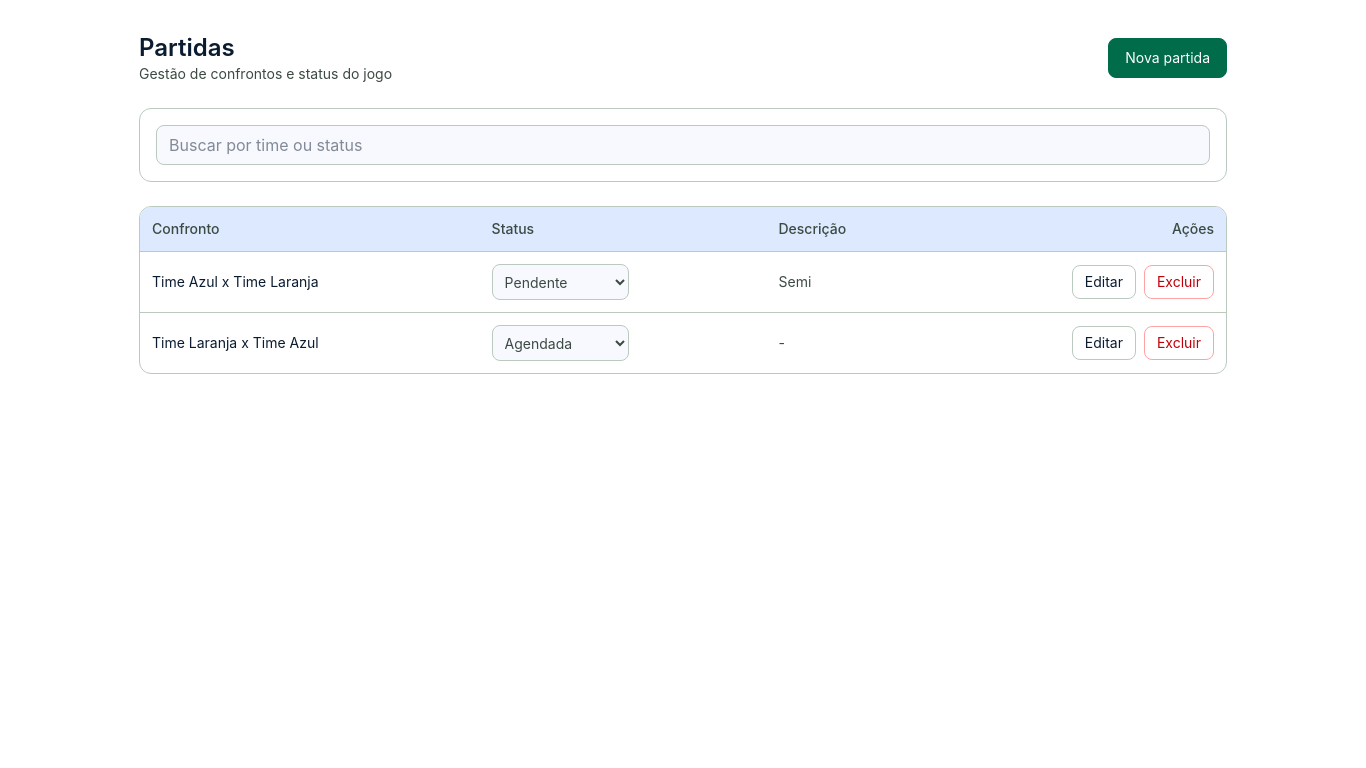
it: MatchesPage › deve abrir modal de edição quando item não está mais na lista
The width and height of the screenshot is (1366, 768).
Click the button "Editar" in the row of "Time Laranja x Time Azul" at (1104, 343), box 1072,326 -> 1136,360
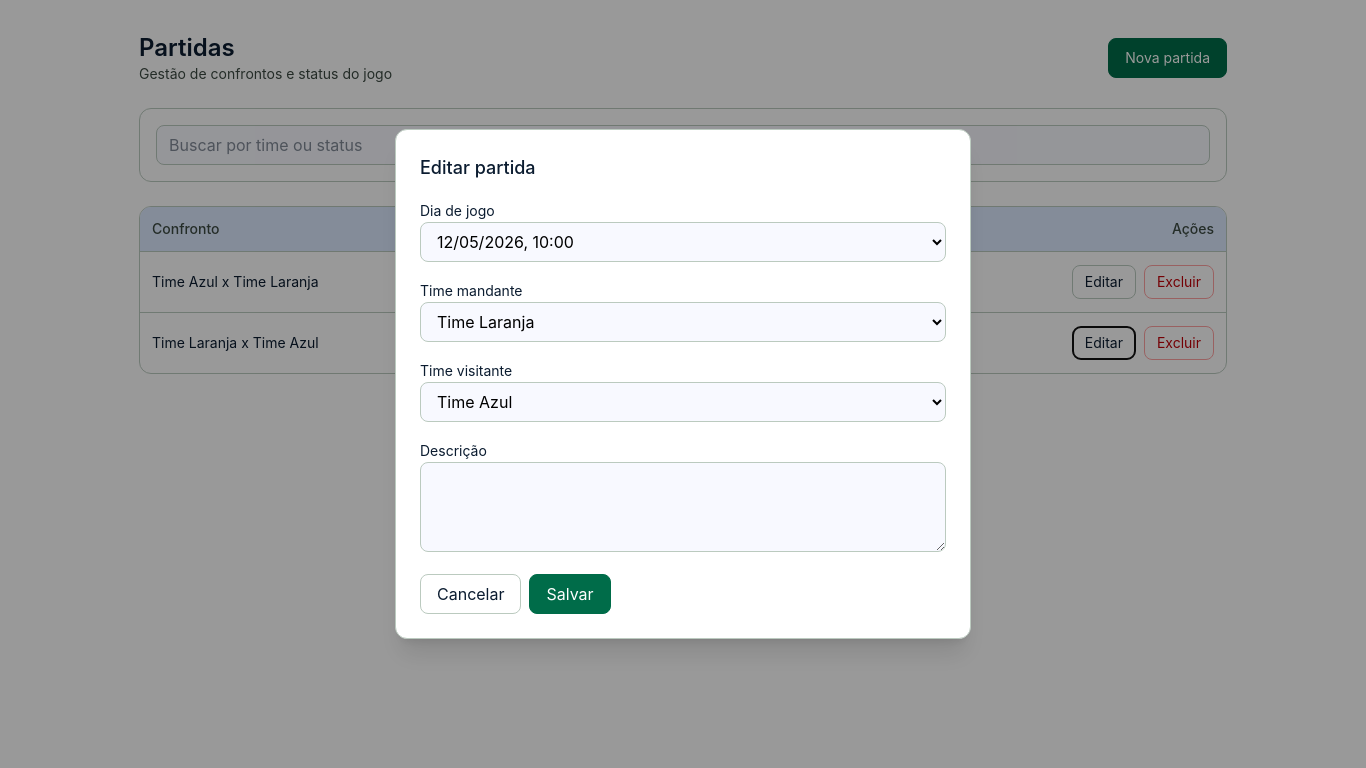
Check: the heading "Editar partida" is shown, box 420,157 -> 536,178
